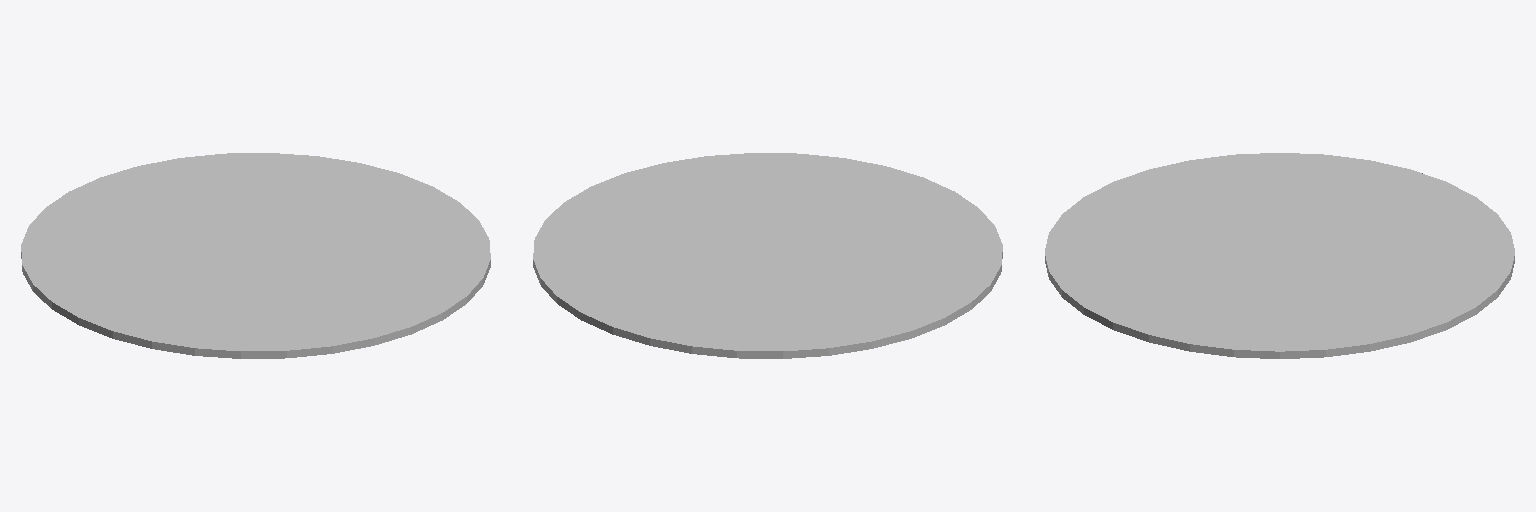
File: target.obj
The picture shows the model from 3 angles: view 1: azimuth 30°, elevation 25°; view 2: azimuth 150°, elevation 25°; view 3: azimuth 270°, elevation 25°; orthographic projection.
Visible parts, largest first — view 1: Cylinder_Cylinder.001; view 2: Cylinder_Cylinder.001; view 3: Cylinder_Cylinder.001.
Boxes of the visible parts, x1=… form: Cylinder_Cylinder.001: x1=21, y1=153, x2=490, y2=358; Cylinder_Cylinder.001: x1=533, y1=153, x2=1002, y2=358; Cylinder_Cylinder.001: x1=1045, y1=153, x2=1514, y2=358.
Size of the model in its own units: 7.77 by 0.1384 by 7.77.